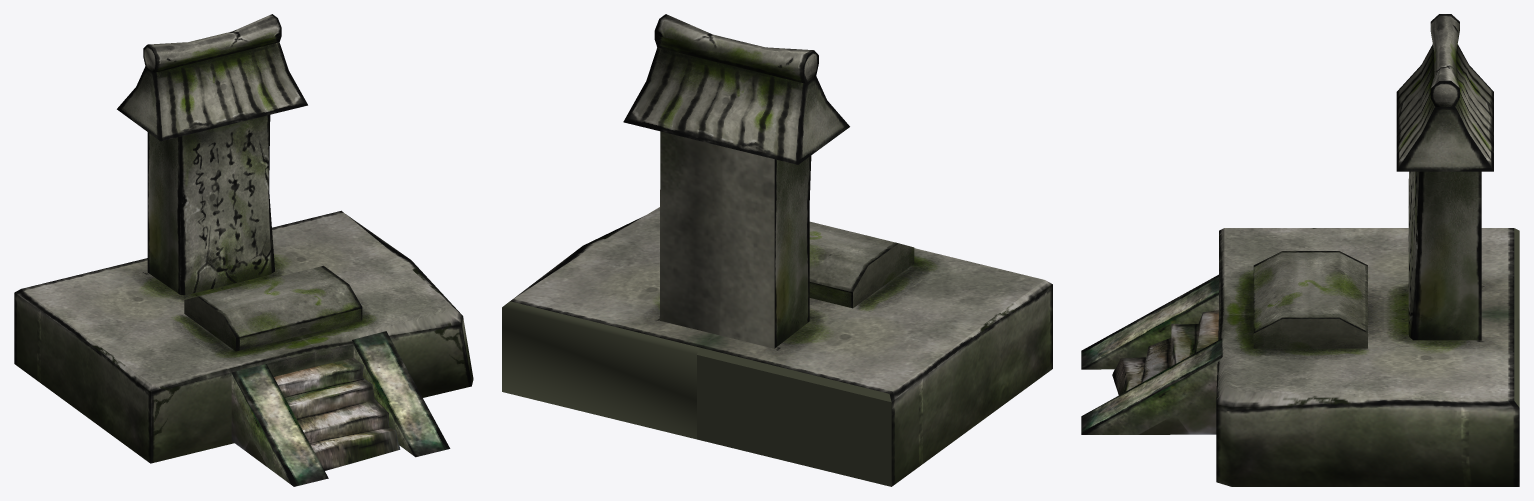
Rendered from PRP_MasterShrine.FBX.
3 renders of one model, left to right at view 1: azimuth 30°, elevation 25°; view 2: azimuth 150°, elevation 25°; view 3: azimuth 270°, elevation 25°, orthographic. The views are drawn at different scales.
Parts seen in each view (by area): view 1: PRP_MasterShrine; view 2: PRP_MasterShrine; view 3: PRP_MasterShrine.
Part boxes in pixels (x1,y1,x2,y2): PRP_MasterShrine: [14, 14, 473, 486]; PRP_MasterShrine: [502, 14, 1052, 486]; PRP_MasterShrine: [1081, 14, 1519, 486].
Bounding box in the file's own units: 392 × 368 × 410.
